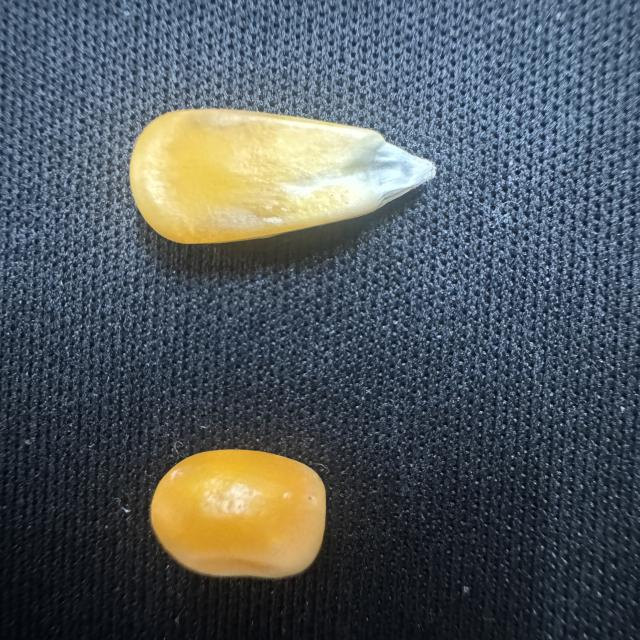Bad-Seed: (136, 435, 343, 587)
Good-Seed: (117, 92, 453, 258)
